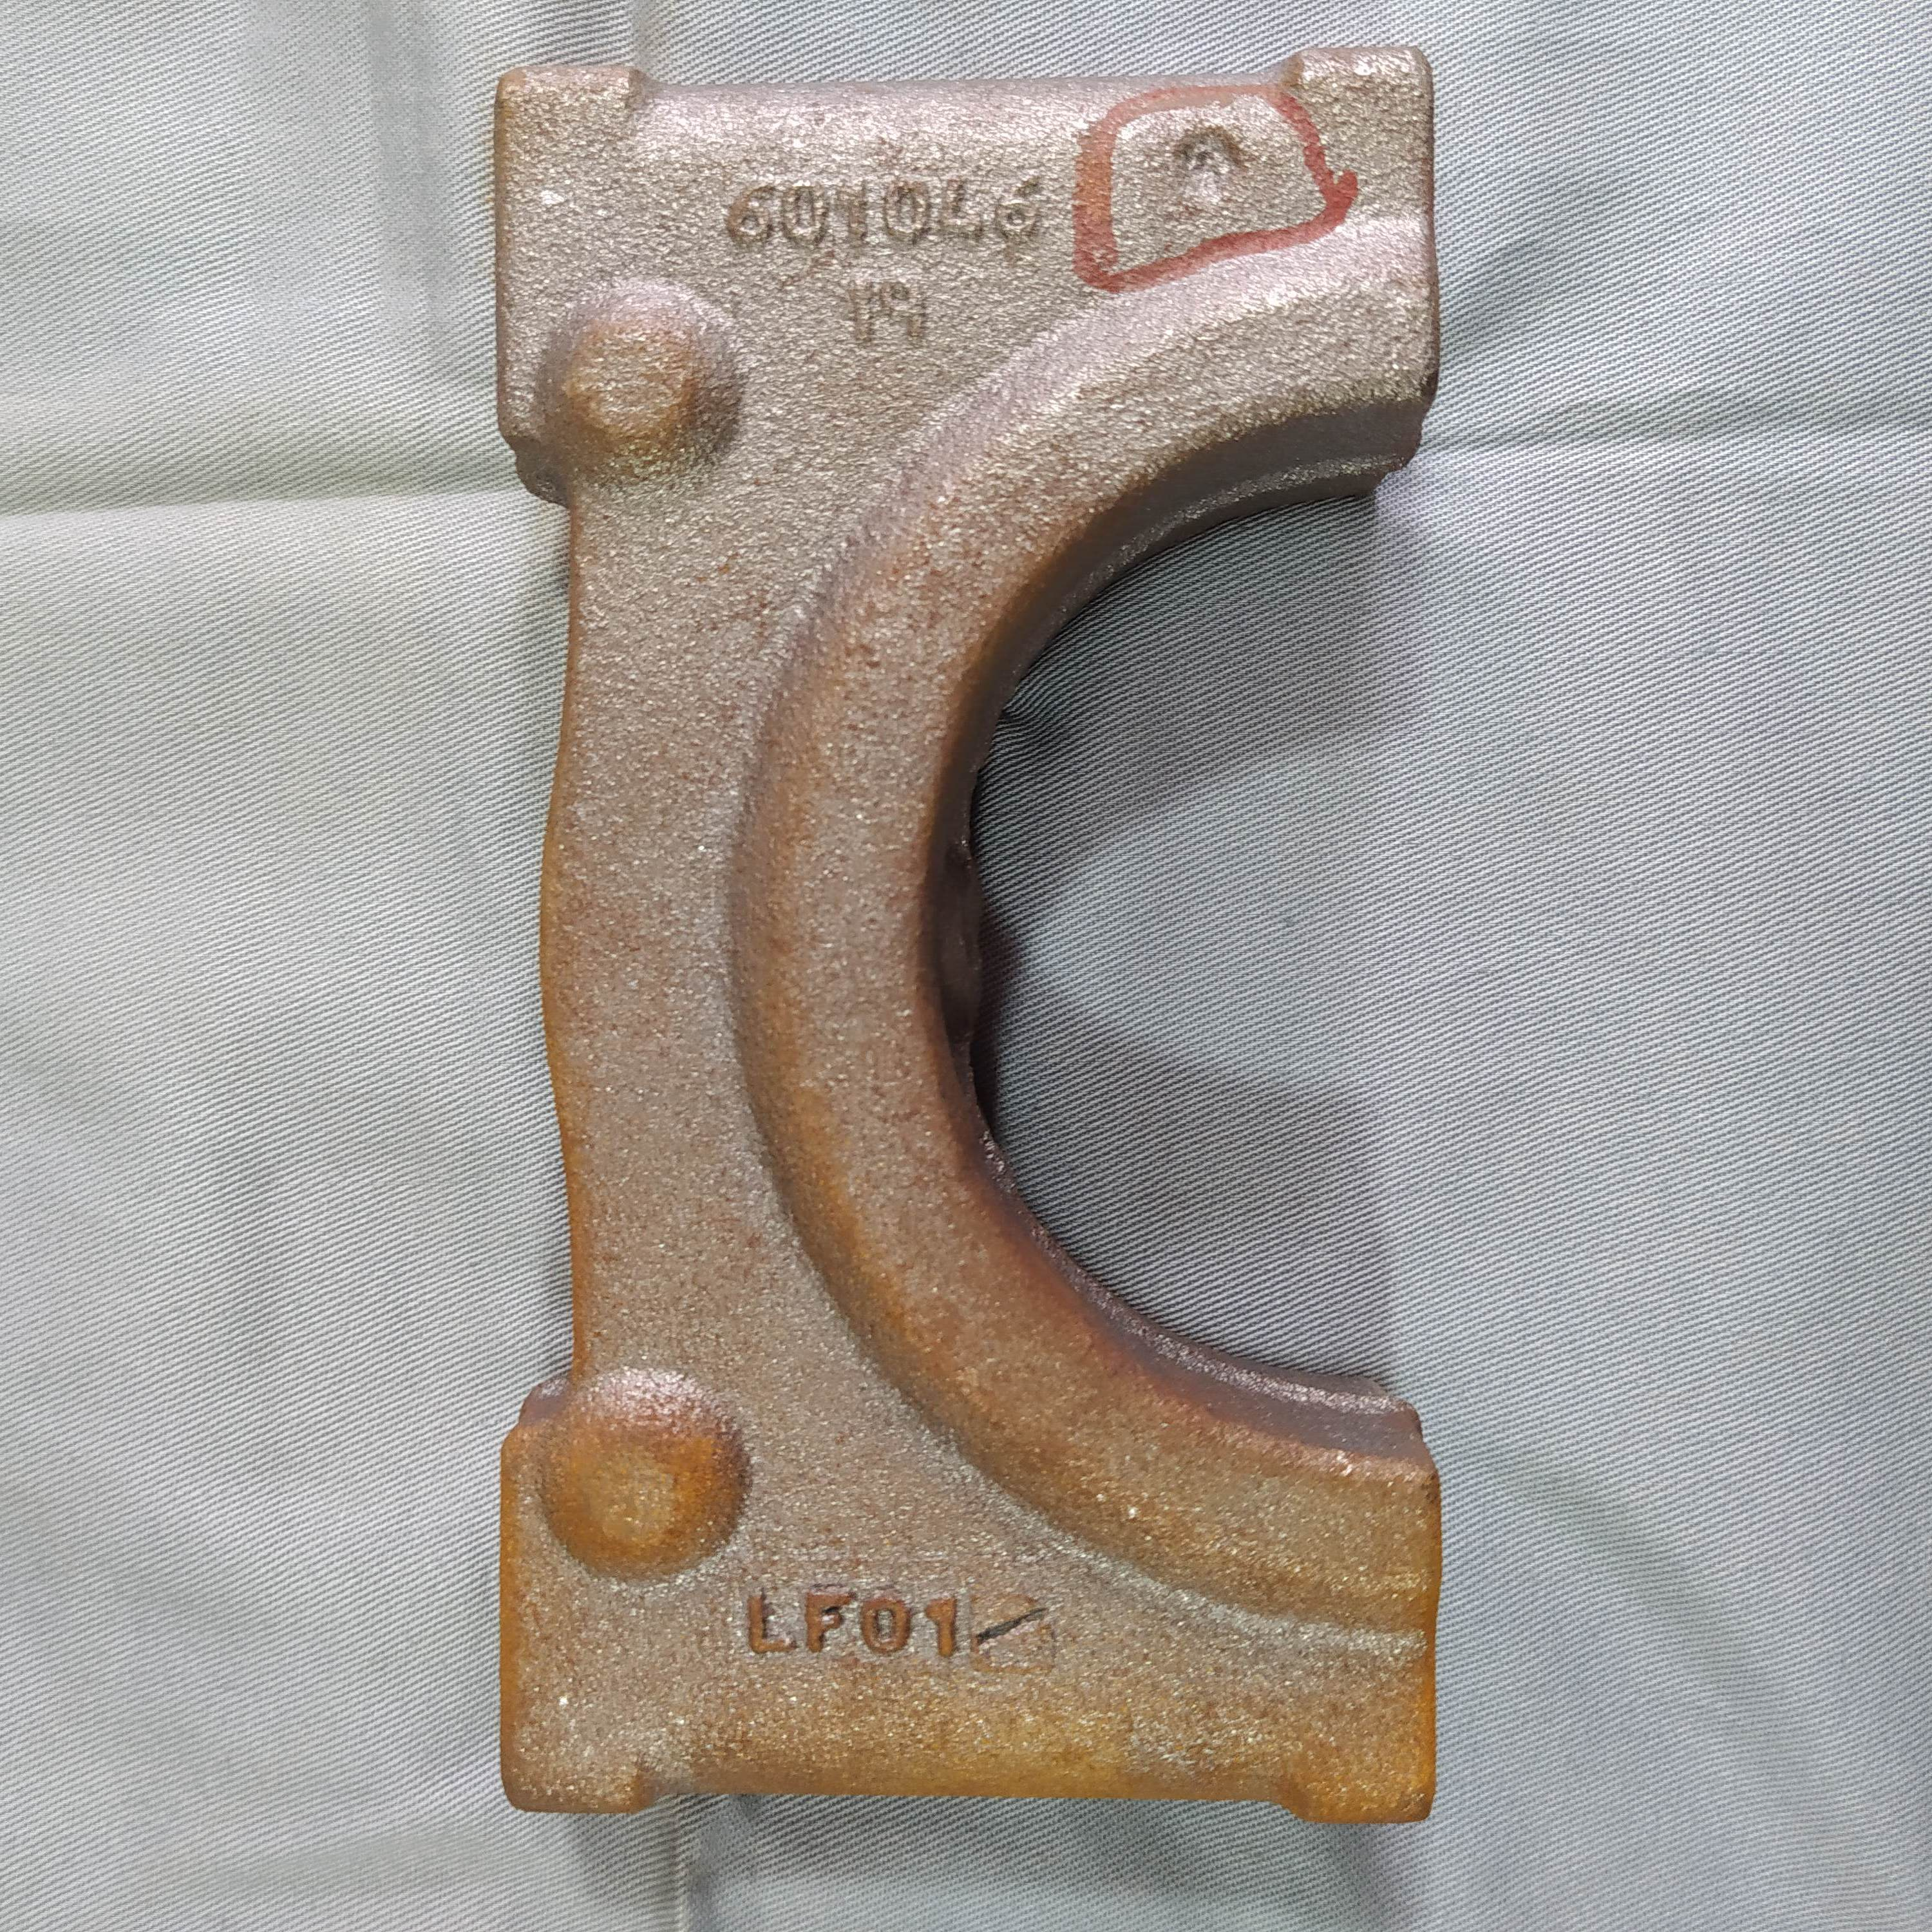buraco: (1162, 119, 1260, 218)
